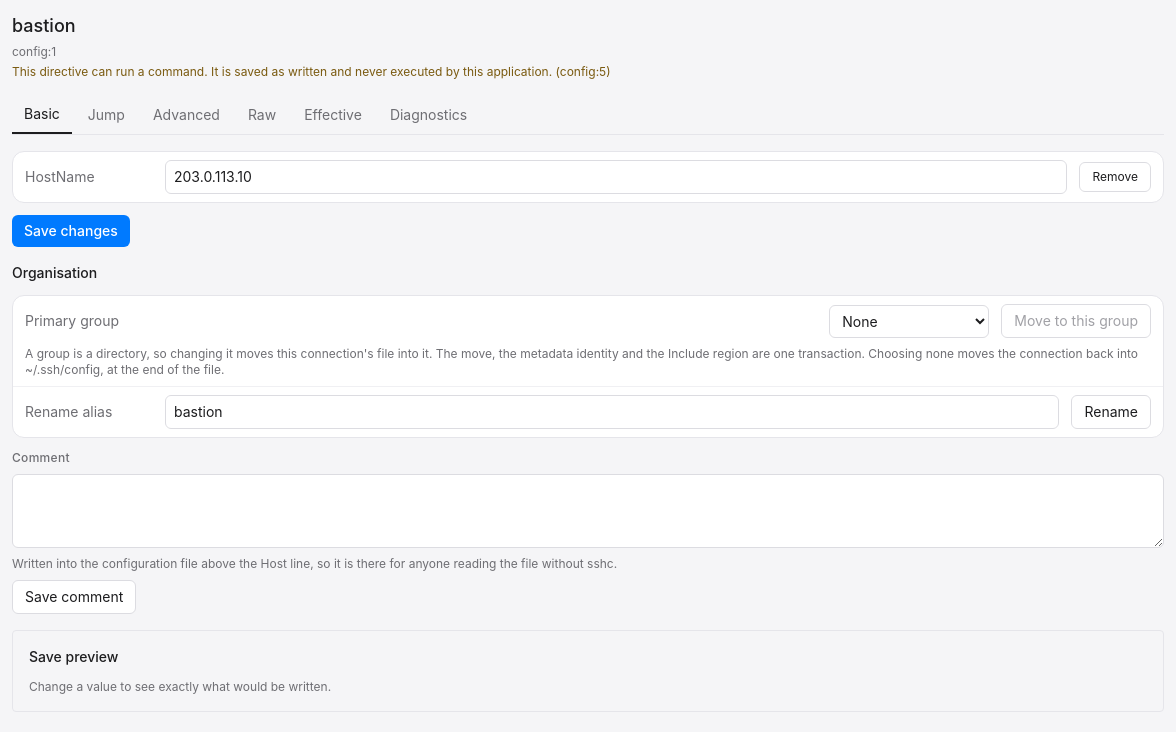
HostDetailPanel › labels the explained values as not being ssh -G
Click the tab "Effective" at (333, 115), box [292,96,374,134]
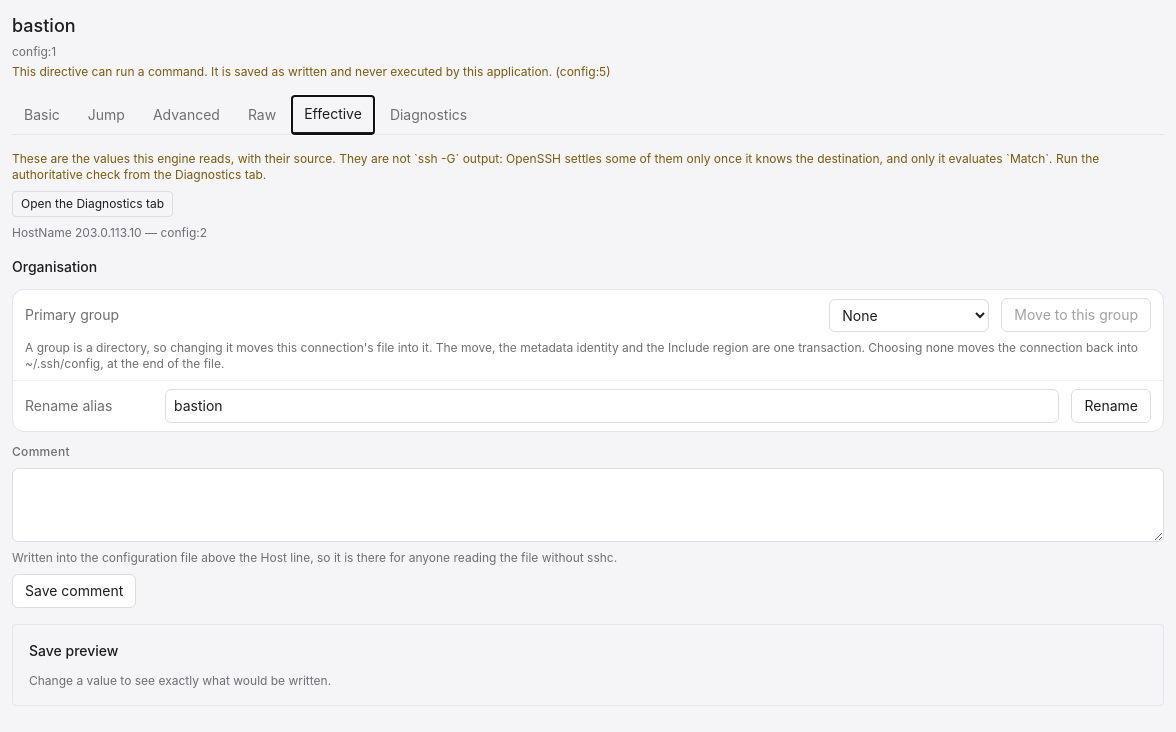
Expected: the message shows "ssh -G", [12,151,1099,182]
